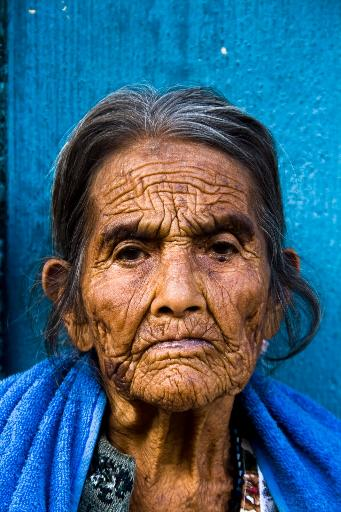left_eye: (207, 240, 243, 262)
left_lip_corner: (210, 338, 222, 353)
right_eye: (116, 244, 153, 266)
right_lip_corner: (139, 342, 154, 359)
